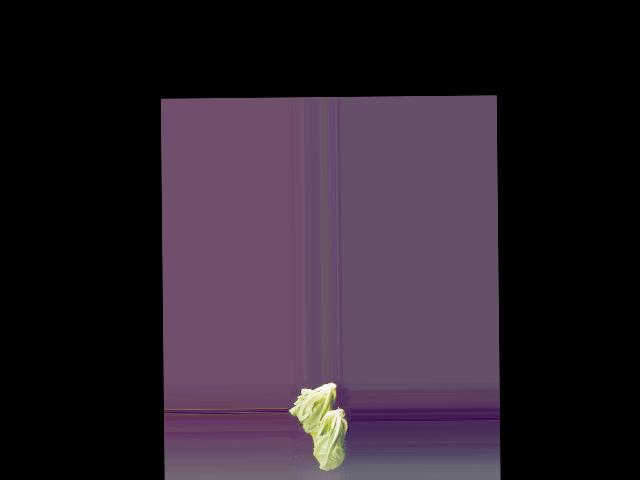lettuce: (289, 382, 343, 444)
